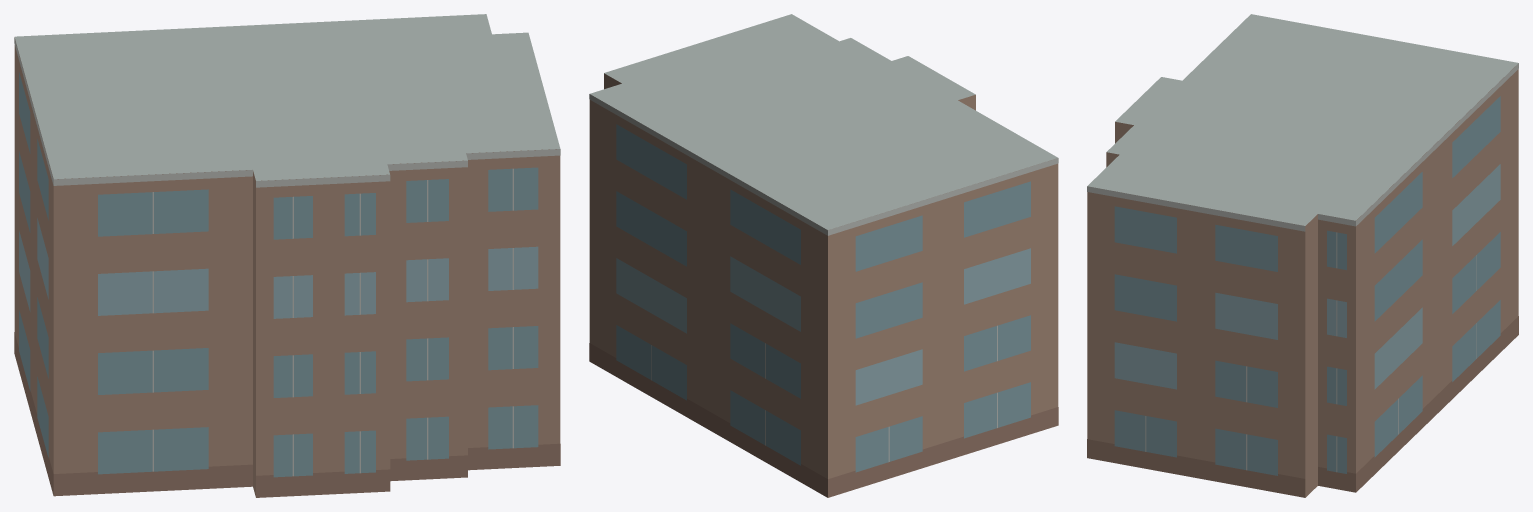
The model's file is survey-upis-32470664.glb.
The picture shows the model from 3 angles, left to right: view 1: azimuth 30°, elevation 25°; view 2: azimuth 150°, elevation 25°; view 3: azimuth 270°, elevation 25°; orthographic projection. The views are drawn at different scales.
Visible parts, largest first — view 1: survey-upis-32470664.tmp; view 2: survey-upis-32470664.tmp; view 3: survey-upis-32470664.tmp.
Boxes of the visible parts, <box> form: survey-upis-32470664.tmp: <box>14,14,560,497</box>; survey-upis-32470664.tmp: <box>589,14,1058,497</box>; survey-upis-32470664.tmp: <box>1087,14,1518,497</box>.
Bounding box in the file's own units: 19.41 × 11.6 × 16.7.
